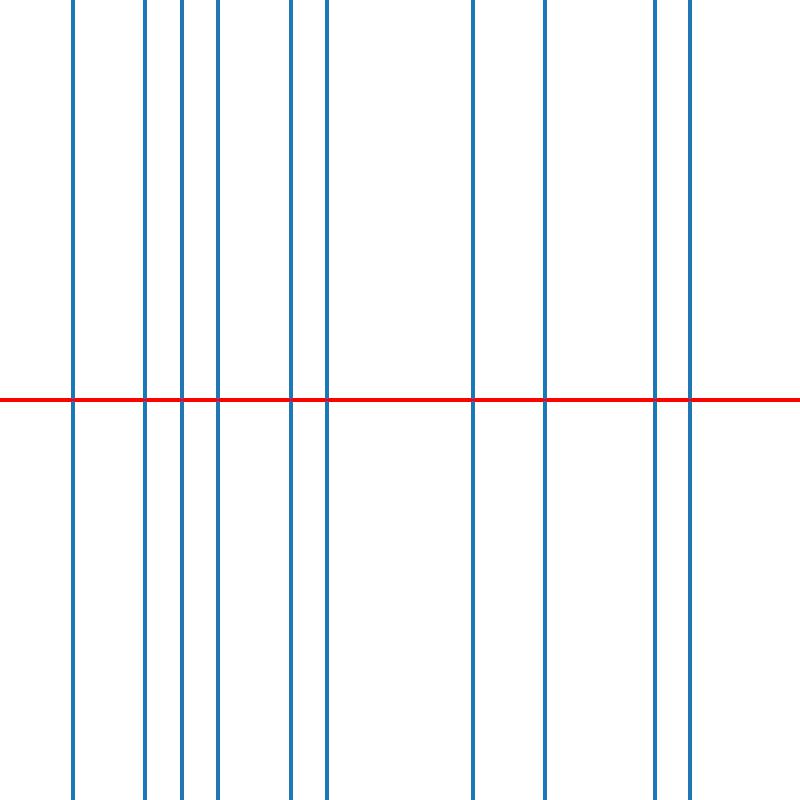root: (141, 396, 149, 404), (650, 396, 658, 404), (541, 396, 549, 404), (214, 396, 221, 404), (469, 396, 476, 404), (687, 396, 694, 404), (323, 396, 330, 404), (287, 396, 294, 404), (69, 396, 76, 404), (178, 396, 185, 404)
